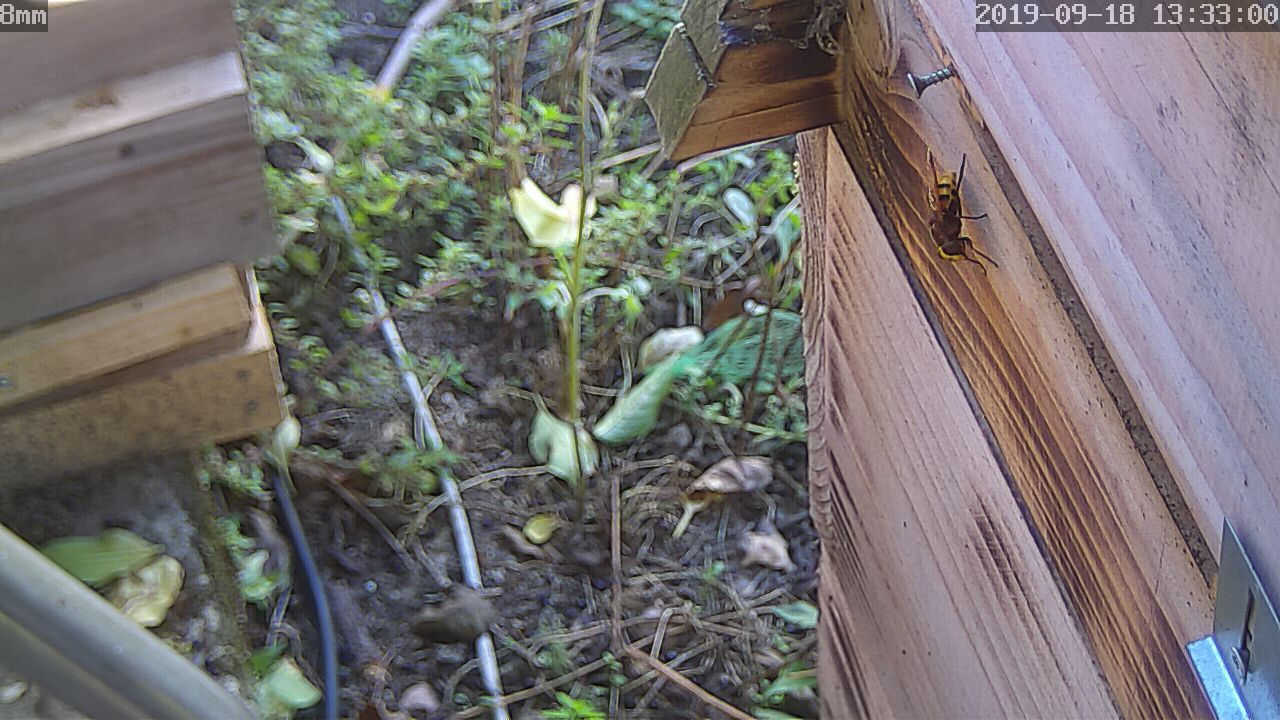hornet: (917, 156, 986, 281)
